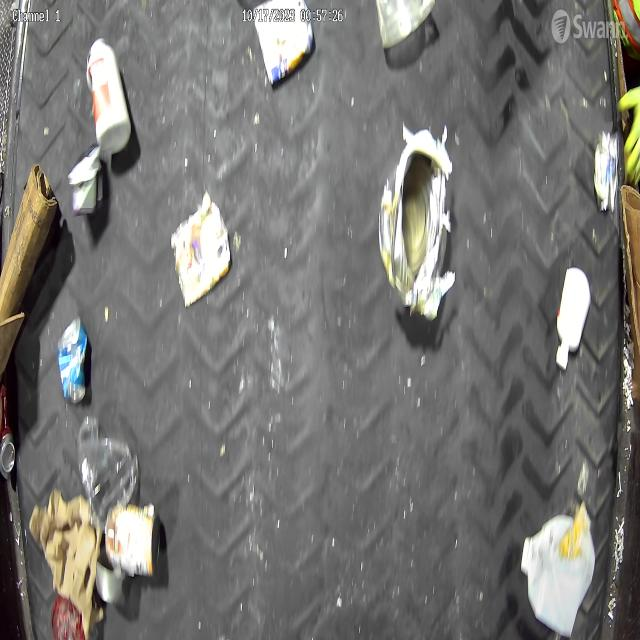can: (375, 123, 454, 322), (108, 505, 159, 580), (59, 318, 89, 406), (0, 383, 16, 479)
milk_jug: (522, 507, 595, 635)
